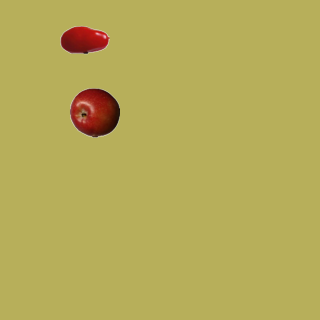Apple Braeburn: (69, 87, 119, 137)
Tomato 2: (59, 14, 109, 64)
